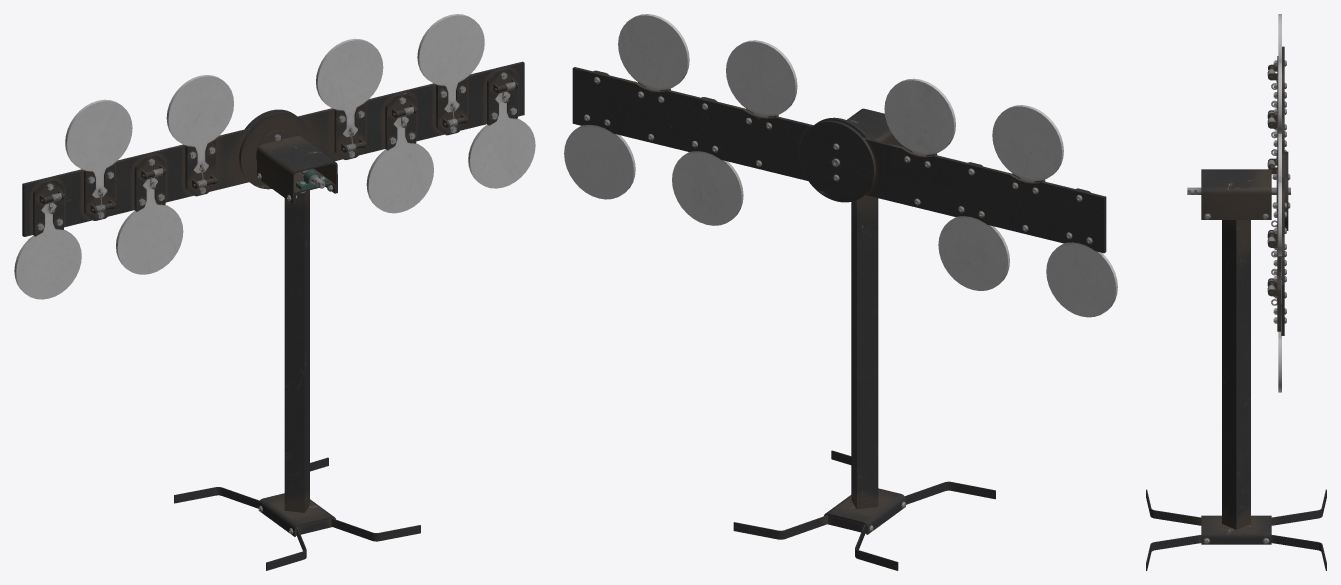
The model's file is target_spinning_plate_rack.glb.
3 renders of one model, left to right at view 1: azimuth 30°, elevation 25°; view 2: azimuth 150°, elevation 25°; view 3: azimuth 270°, elevation 25°, orthographic. The views are drawn at different scales.
Parts seen in each view (by area): view 1: SpinningPlateRack_Rack_TargetSet01_0, SpinningPlateRack_Stand_TargetSet01_0, SpinningPlateRack_Plate_05_TargetSet01_0, SpinningPlateRack_Plate_04_TargetSet01_0, SpinningPlateRack_Plate_02_TargetSet01_0, SpinningPlateRack_Plate_07_TargetSet01_0, SpinningPlateRack_Plate_03_TargetSet01_0, SpinningPlateRack_Plate_01_TargetSet01_0, SpinningPlateRack_Plate_06_TargetSet01_0, SpinningPlateRack_Plate_08_TargetSet01_0; view 2: SpinningPlateRack_Rack_TargetSet01_0, SpinningPlateRack_Stand_TargetSet01_0, SpinningPlateRack_Plate_05_TargetSet01_0, SpinningPlateRack_Plate_02_TargetSet01_0, SpinningPlateRack_Plate_04_TargetSet01_0, SpinningPlateRack_Plate_07_TargetSet01_0, SpinningPlateRack_Plate_01_TargetSet01_0, SpinningPlateRack_Plate_03_TargetSet01_0, SpinningPlateRack_Plate_08_TargetSet01_0, SpinningPlateRack_Plate_06_TargetSet01_0; view 3: SpinningPlateRack_Stand_TargetSet01_0, SpinningPlateRack_Rack_TargetSet01_0, SpinningPlateRack_Plate_07_TargetSet01_0, SpinningPlateRack_Plate_04_TargetSet01_0, SpinningPlateRack_Plate_08_TargetSet01_0.
Boxes of the visible parts, x1,y1,x2,y2 form: SpinningPlateRack_Rack_TargetSet01_0: (22, 61, 524, 236); SpinningPlateRack_Stand_TargetSet01_0: (174, 136, 420, 570); SpinningPlateRack_Plate_05_TargetSet01_0: (316, 38, 383, 136); SpinningPlateRack_Plate_04_TargetSet01_0: (166, 75, 233, 173); SpinningPlateRack_Plate_02_TargetSet01_0: (65, 99, 132, 197); SpinningPlateRack_Plate_07_TargetSet01_0: (417, 14, 484, 112); SpinningPlateRack_Plate_03_TargetSet01_0: (116, 178, 183, 274); SpinningPlateRack_Plate_01_TargetSet01_0: (14, 202, 81, 299); SpinningPlateRack_Plate_06_TargetSet01_0: (366, 116, 433, 213); SpinningPlateRack_Plate_08_TargetSet01_0: (468, 91, 535, 188); SpinningPlateRack_Rack_TargetSet01_0: (572, 67, 1106, 253); SpinningPlateRack_Stand_TargetSet01_0: (733, 108, 995, 570); SpinningPlateRack_Plate_05_TargetSet01_0: (726, 40, 797, 117); SpinningPlateRack_Plate_02_TargetSet01_0: (992, 105, 1063, 182); SpinningPlateRack_Plate_04_TargetSet01_0: (884, 78, 955, 155); SpinningPlateRack_Plate_07_TargetSet01_0: (618, 14, 689, 90); SpinningPlateRack_Plate_01_TargetSet01_0: (1046, 242, 1117, 317); SpinningPlateRack_Plate_03_TargetSet01_0: (938, 216, 1009, 290); SpinningPlateRack_Plate_08_TargetSet01_0: (564, 124, 635, 199); SpinningPlateRack_Plate_06_TargetSet01_0: (672, 151, 743, 225); SpinningPlateRack_Stand_TargetSet01_0: (1146, 169, 1326, 570); SpinningPlateRack_Rack_TargetSet01_0: (1187, 46, 1290, 335); SpinningPlateRack_Plate_07_TargetSet01_0: (1278, 182, 1281, 279); SpinningPlateRack_Plate_04_TargetSet01_0: (1278, 62, 1281, 133); SpinningPlateRack_Plate_08_TargetSet01_0: (1278, 294, 1281, 392).
Size of the model in its own units: 1.61 by 1.31 by 0.4969.
Materials: 1 (1 with a texture image).
